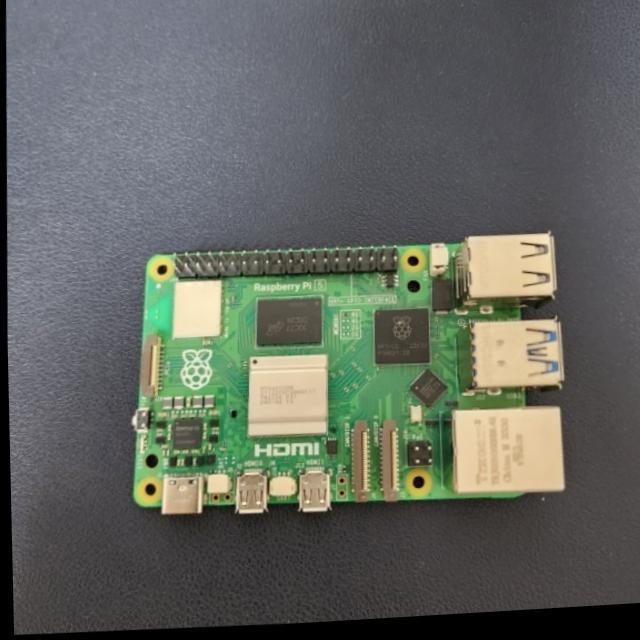Raspberry-Pi-5: (133, 234, 565, 516)
